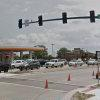Traffic light: (9, 9, 81, 33)
